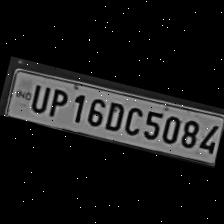0: (157, 110, 183, 146)
1: (63, 88, 88, 124)
4: (194, 117, 222, 155)
5: (138, 105, 164, 142)
6: (80, 92, 108, 128)
8: (176, 114, 202, 150)
C: (120, 101, 144, 137)
D: (100, 96, 127, 132)
P: (43, 82, 71, 120)
U: (24, 78, 51, 114)
